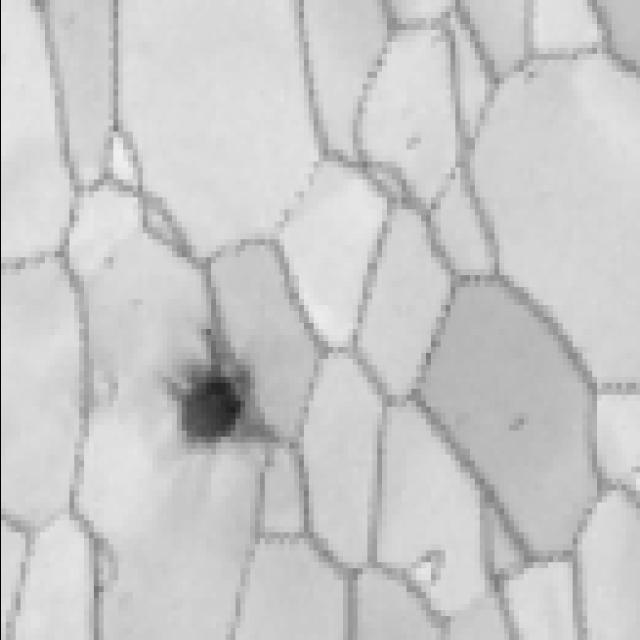good_void: (164, 324, 265, 454), (503, 408, 529, 435)
